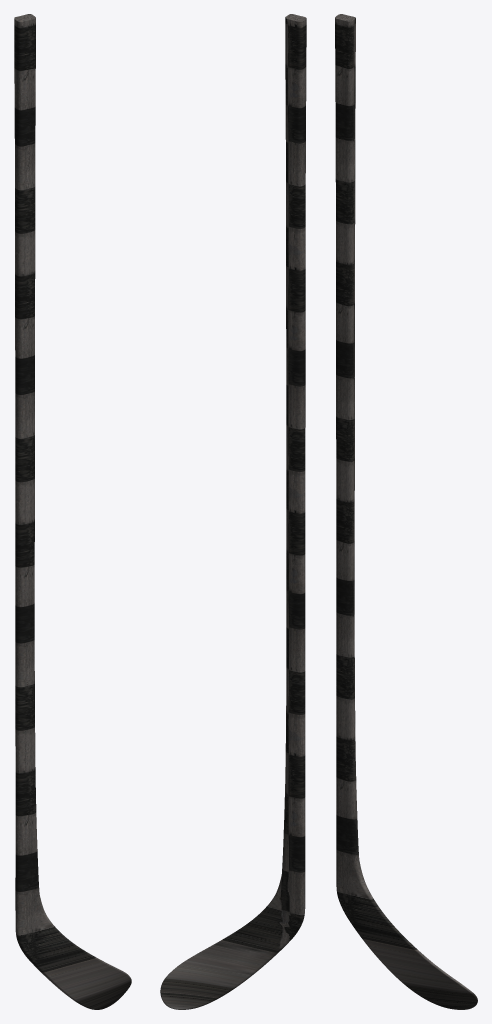
Rendered from P61-SBO.glb.
The picture shows the model from 3 angles, left to right: view 1: azimuth 30°, elevation 25°; view 2: azimuth 150°, elevation 25°; view 3: azimuth 330°, elevation 25°; orthographic projection. The views are drawn at different scales.
Parts seen in each view (by area): view 1: geometry_0; view 2: geometry_0; view 3: geometry_0.
Part boxes in pixels (bbox=[...]): geometry_0: bbox=[14, 14, 131, 1009]; geometry_0: bbox=[160, 14, 306, 1009]; geometry_0: bbox=[335, 14, 477, 1009].
Size of the model in its own units: 220 by 1650 by 68.24.
Materials: 1 (1 with a texture image).
